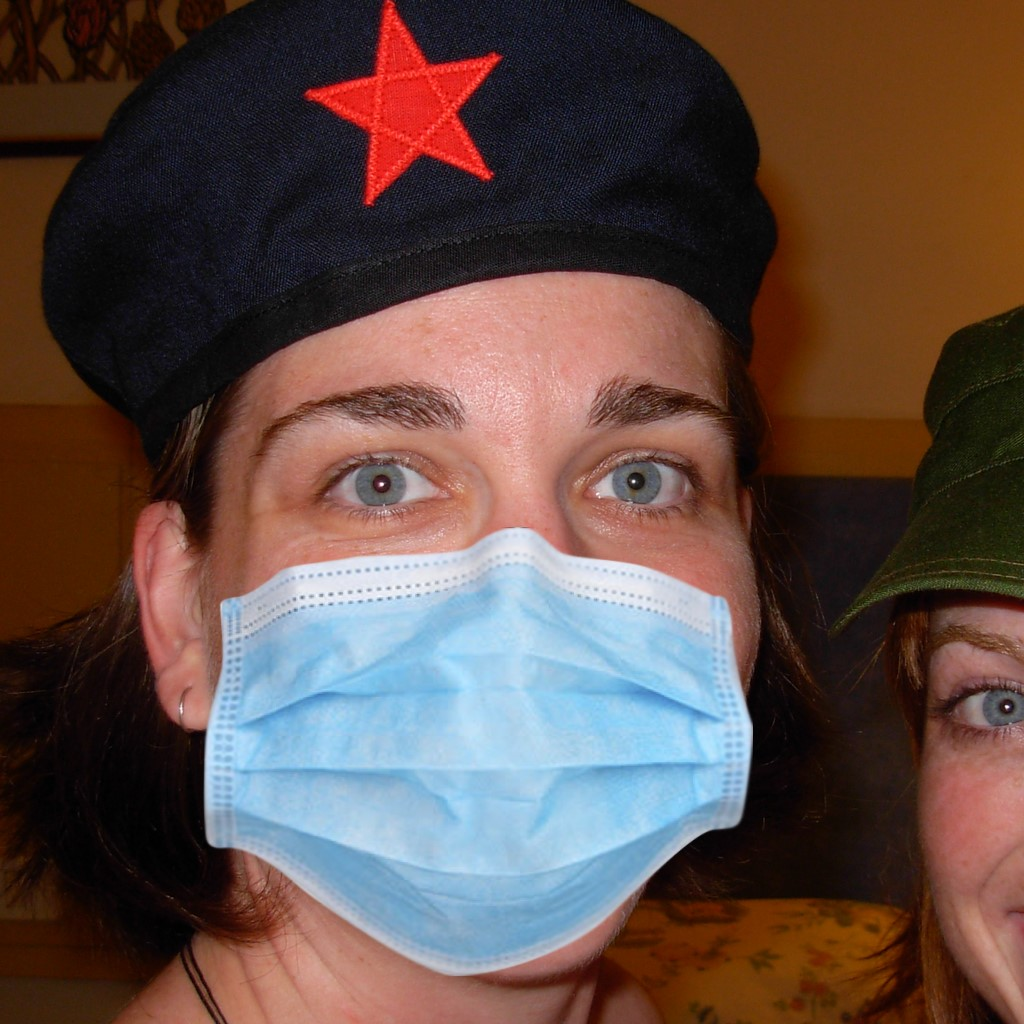con_mascara: (164, 180, 765, 990)
